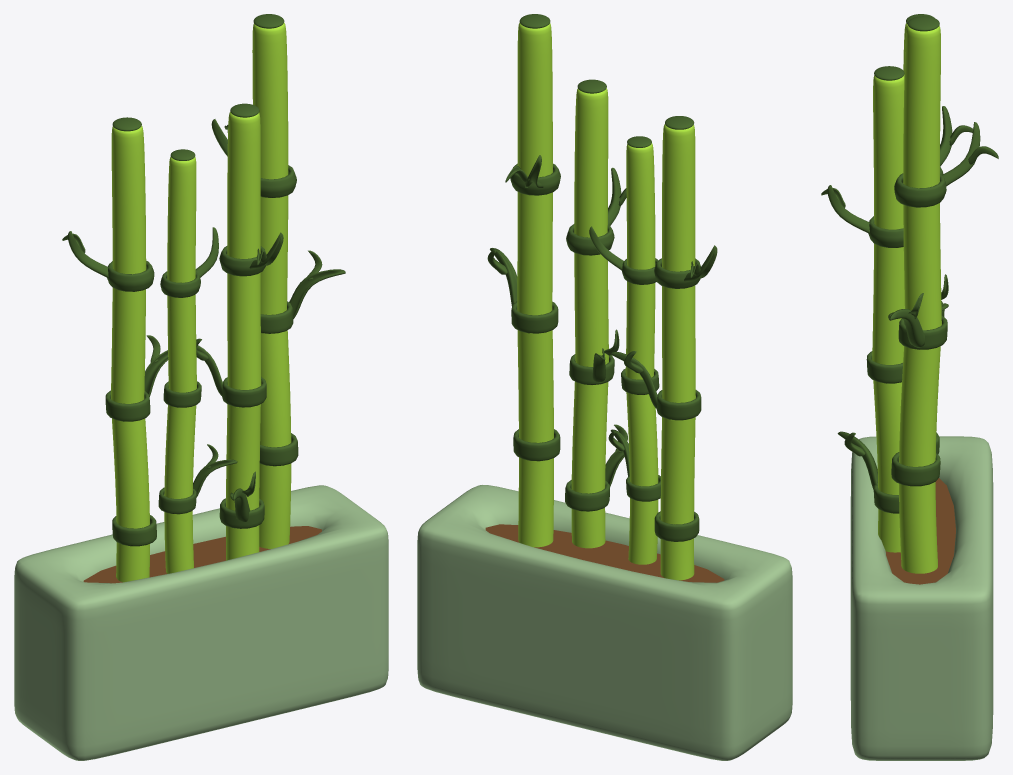
The model's file is SM_Bamboo.fbx.
3 views of the same model, side by side, from view 1: azimuth 30°, elevation 25°; view 2: azimuth 150°, elevation 25°; view 3: azimuth 270°, elevation 25° (orthographic). The views are drawn at different scales.
Visible parts, largest first — view 1: Cube, Cylinder.019, Cylinder.025, Cylinder.031, Cylinder.001, Cylinder.030, Cylinder.018, Cylinder, Cylinder.024, Plane.003, Cylinder.023, Cylinder.022 (+11 smaller); view 2: Cube, Cylinder.031, Cylinder.019, Cylinder.025, Cylinder.030, Cylinder.001, Cylinder.024, Cylinder.018, Cylinder, Plane.003, Cylinder.033, Cylinder.034 (+7 smaller); view 3: Cube, Cylinder.031, Cylinder.025, Cylinder.030, Cylinder.024, Plane.003, Cylinder.035, Cylinder.034, Cylinder.033, Cylinder.027, Cylinder.029, Plane.023 (+7 smaller).
Part boxes in pixels (x1=…): Cube: x1=14, y1=485, x2=388, y2=760; Cylinder.019: x1=111, y1=126, x2=146, y2=403; Cylinder.025: x1=227, y1=112, x2=261, y2=389; Cylinder.031: x1=252, y1=22, x2=288, y2=314; Cylinder.001: x1=167, y1=156, x2=196, y2=392; Cylinder.030: x1=259, y1=330, x2=291, y2=548; Cylinder.018: x1=112, y1=418, x2=149, y2=582; Cylinder: x1=164, y1=405, x2=196, y2=573; Cylinder.024: x1=226, y1=404, x2=260, y2=560; Plane.003: x1=83, y1=526, x2=321, y2=583; Cylinder.023: x1=107, y1=261, x2=154, y2=291; Cylinder.022: x1=112, y1=515, x2=156, y2=546; Cube: x1=417, y1=485, x2=792, y2=760; Cylinder.031: x1=517, y1=22, x2=552, y2=315; Cylinder.019: x1=662, y1=124, x2=695, y2=402; Cylinder.025: x1=574, y1=88, x2=608, y2=366; Cylinder.030: x1=517, y1=330, x2=553, y2=547; Cylinder.001: x1=625, y1=143, x2=655, y2=379; Cylinder.024: x1=571, y1=382, x2=608, y2=548; Cylinder.018: x1=660, y1=417, x2=695, y2=580; Cylinder: x1=626, y1=392, x2=658, y2=564; Plane.003: x1=485, y1=524, x2=724, y2=582; Cylinder.033: x1=511, y1=301, x2=558, y2=333; Cylinder.034: x1=513, y1=429, x2=560, y2=461; Cube: x1=850, y1=436, x2=993, y2=760; Cylinder.031: x1=903, y1=25, x2=941, y2=330; Cylinder.025: x1=872, y1=75, x2=904, y2=364; Cylinder.030: x1=899, y1=346, x2=940, y2=573; Cylinder.024: x1=873, y1=380, x2=901, y2=552; Plane.003: x1=885, y1=478, x2=955, y2=584; Cylinder.035: x1=894, y1=173, x2=946, y2=207; Cylinder.034: x1=891, y1=452, x2=940, y2=486; Cylinder.033: x1=898, y1=315, x2=947, y2=349; Cylinder.027: x1=866, y1=351, x2=902, y2=383; Cylinder.029: x1=868, y1=216, x2=903, y2=247; Plane.023: x1=888, y1=309, x2=924, y2=347.
Size of the model in its own units: 94.37 by 188 by 43.16.
